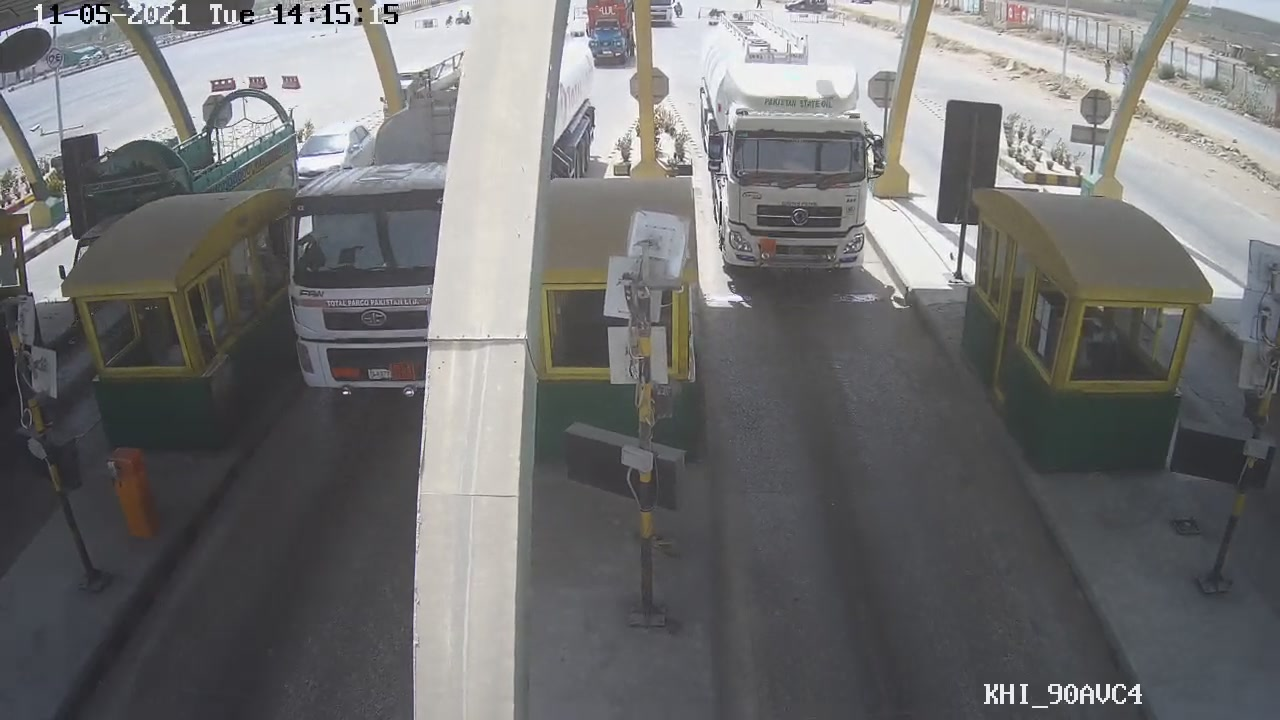F6: (696, 5, 894, 309)
